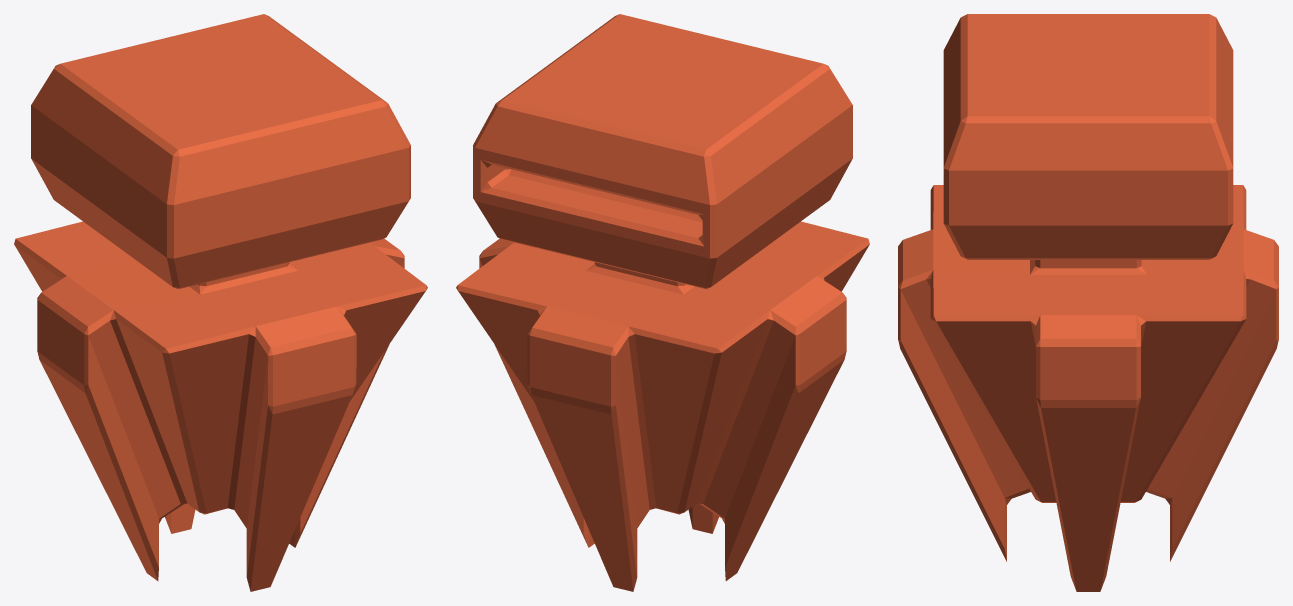
Rendered from joueurrouge.fbx.
3 views of the same model, side by side, from view 1: azimuth 30°, elevation 25°; view 2: azimuth 150°, elevation 25°; view 3: azimuth 270°, elevation 25° (orthographic). The views are drawn at different scales.
Parts seen in each view (by area): view 1: Cube; view 2: Cube; view 3: Cube.
Part boxes in pixels (x1,y1,x2,y2): Cube: [14, 14, 427, 591]; Cube: [456, 14, 869, 591]; Cube: [898, 14, 1278, 591].
Size of the model in its own units: 238 by 238 by 340.
